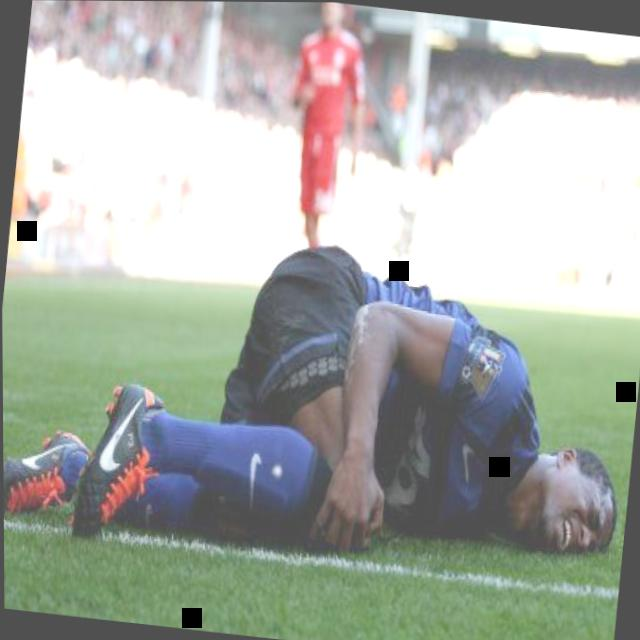Fall-Detected: (1, 200, 640, 606)
